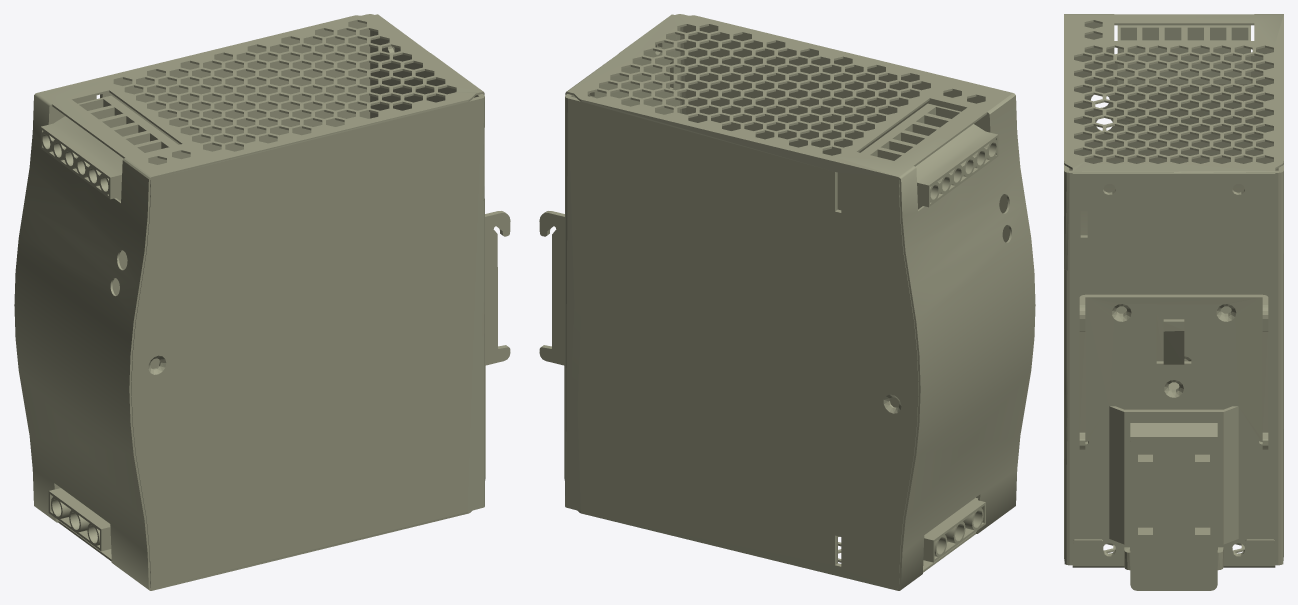
The model's file is SDR-240-24.fbx.
3 renders of one model, left to right at view 1: azimuth 30°, elevation 25°; view 2: azimuth 150°, elevation 25°; view 3: azimuth 270°, elevation 25°, orthographic. The views are drawn at different scales.
Visible parts, largest first — view 1: SDR-240-24; view 2: SDR-240-24; view 3: SDR-240-24.
Part boxes in pixels (left/top/right/bottom): SDR-240-24: left=14, top=14, right=510, bottom=590; SDR-240-24: left=539, top=14, right=1035, bottom=590; SDR-240-24: left=1064, top=14, right=1283, bottom=590.
Size of the model in its own units: 124 by 128 by 63.
